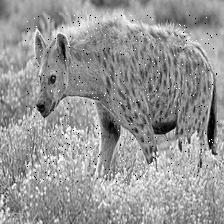hyena: (23, 16, 217, 183)
